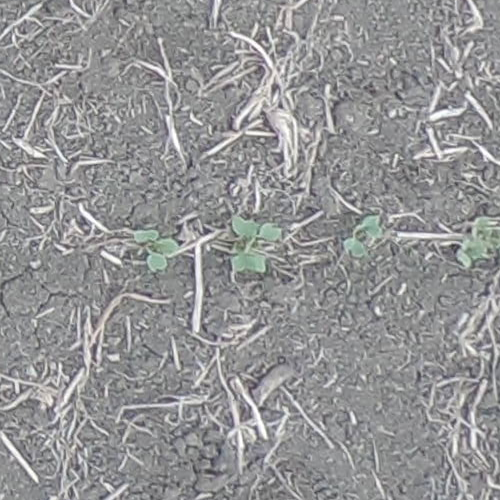plant: (228, 213, 279, 273), (132, 226, 181, 269), (342, 213, 383, 260), (454, 217, 485, 268), (489, 230, 499, 261)
